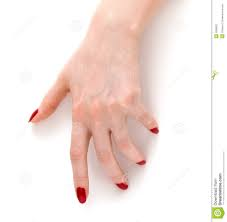hand: (24, 40, 168, 202)
